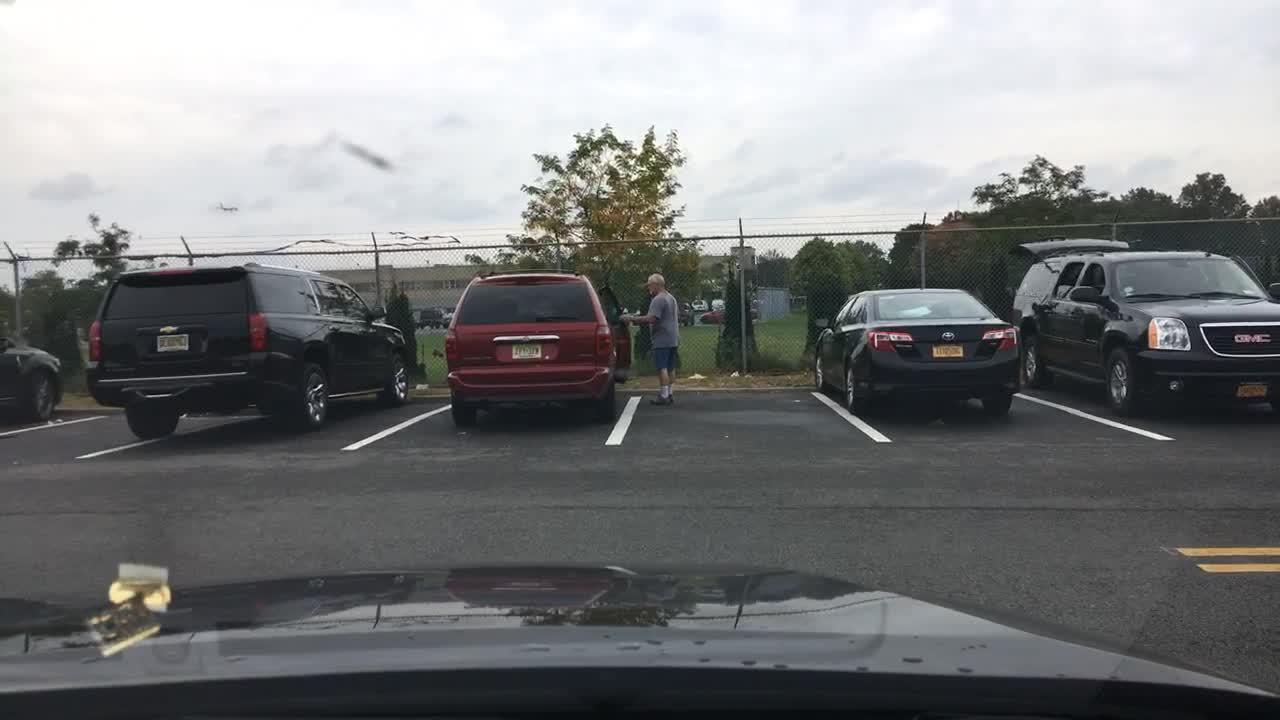GMC: (1227, 329, 1276, 350)
Toyota: (941, 330, 958, 345)
chevrolet: (158, 324, 181, 335)
